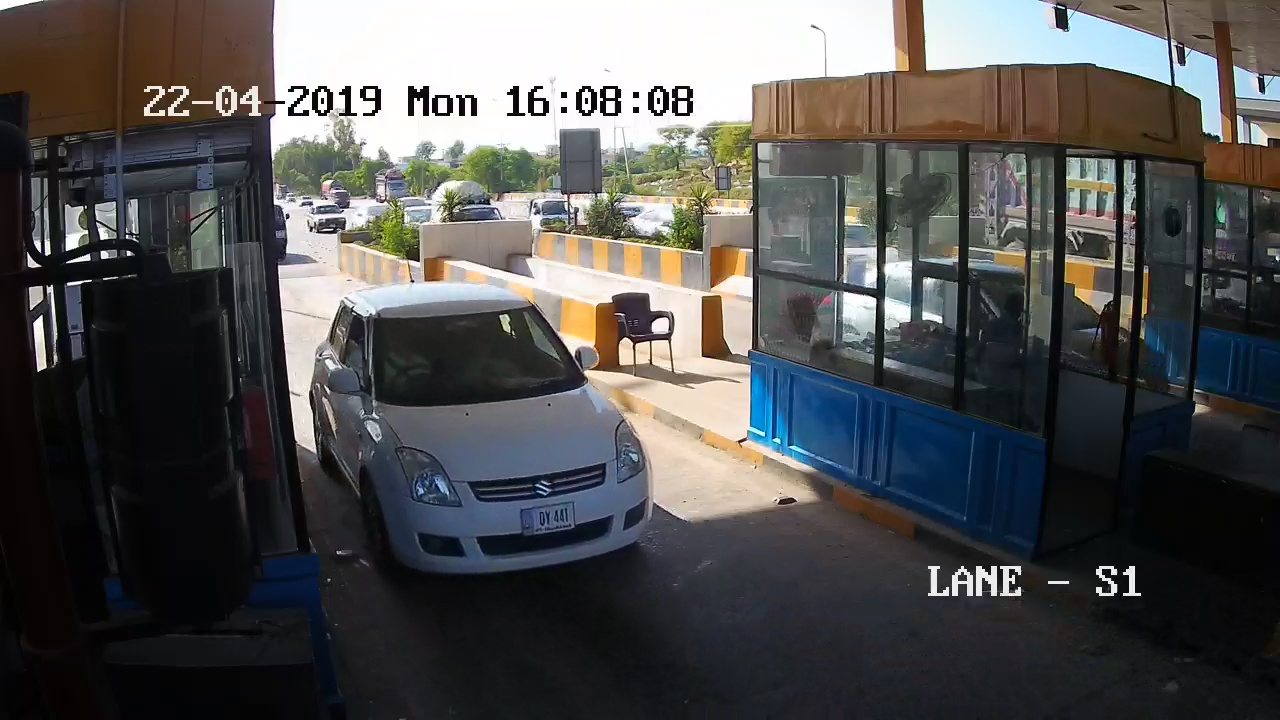Number Plate (Car): (522, 505, 575, 531)
